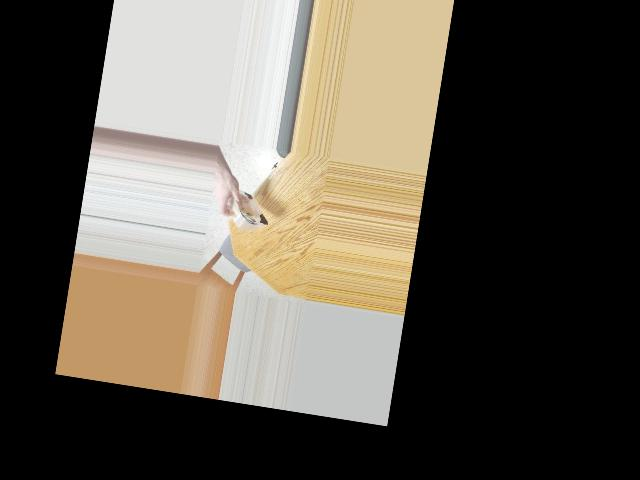cheese: (224, 176, 274, 240)
